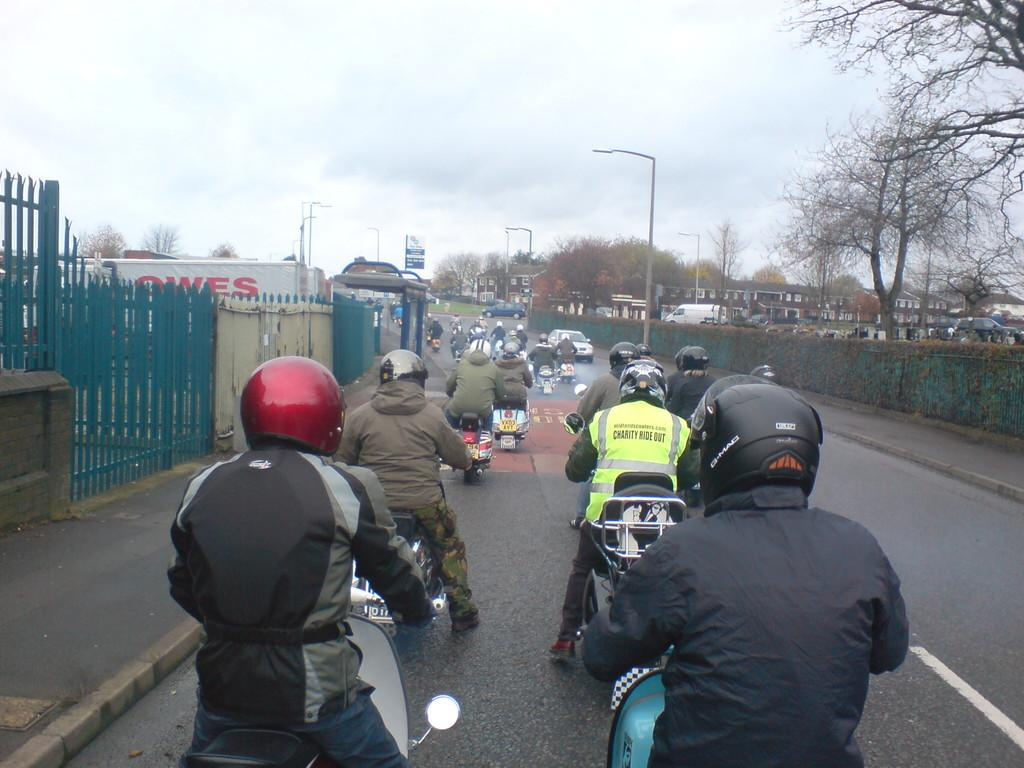helmet: (689, 374, 823, 511), (240, 355, 347, 457), (379, 349, 429, 401), (618, 359, 669, 409), (608, 341, 641, 373), (681, 346, 710, 373), (469, 339, 492, 362), (538, 333, 548, 344), (517, 323, 524, 332), (562, 333, 569, 341), (496, 320, 503, 328)
